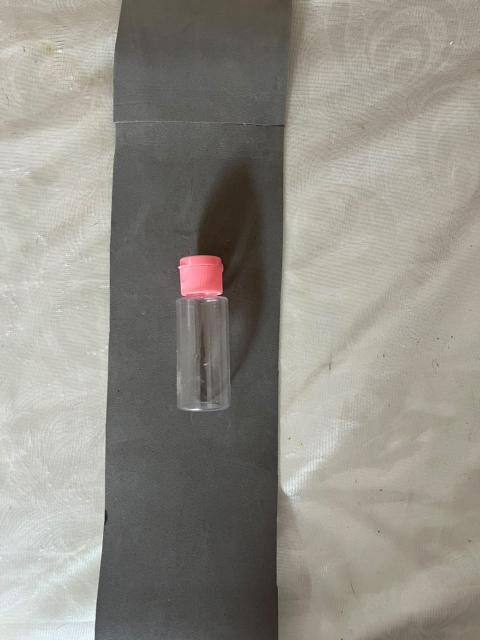PET: (148, 212, 267, 457)
